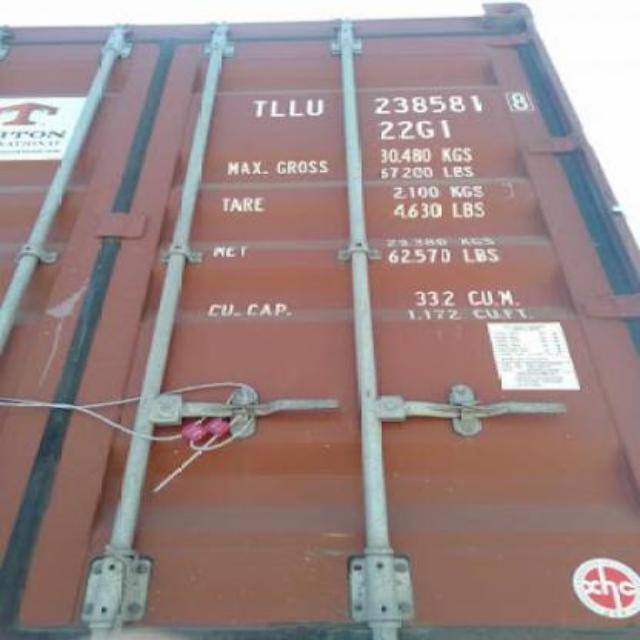1: (468, 87, 484, 119)
2: (371, 88, 392, 116)
3: (390, 88, 410, 115)
5: (430, 92, 446, 115)
8: (501, 90, 534, 114), (446, 88, 468, 115), (412, 90, 430, 116)
L: (286, 94, 306, 122), (268, 95, 288, 119)
T: (248, 95, 268, 122)
U: (306, 91, 328, 121)
